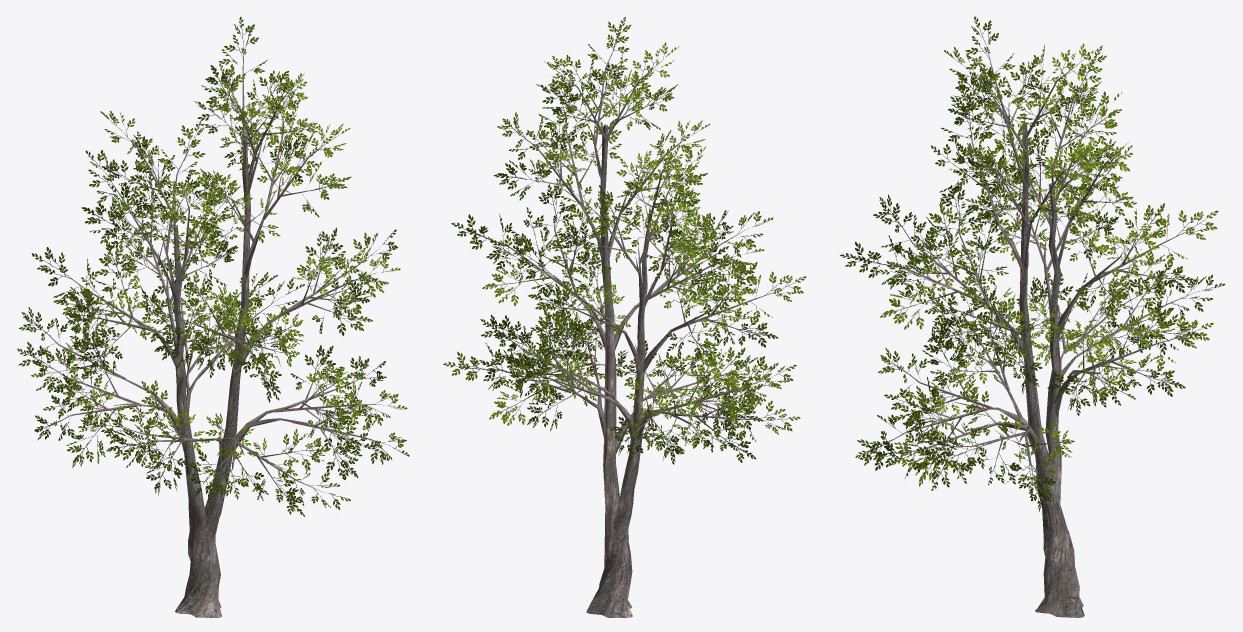
The model's file is tree_elm.glb.
3 renders of one model, left to right at view 1: azimuth 30°, elevation 25°; view 2: azimuth 150°, elevation 25°; view 3: azimuth 270°, elevation 25°, orthographic. The views are drawn at different scales.
Parts seen in each view (by area): view 1: Tree_1Mat, Tree_0Mat; view 2: Tree_1Mat, Tree_0Mat; view 3: Tree_1Mat, Tree_0Mat.
Boxes of the visible parts, left/top/right/bottom form: Tree_1Mat: left=17, top=17, right=409, bottom=516; Tree_0Mat: left=41, top=40, right=388, bottom=617; Tree_1Mat: left=443, top=16, right=806, bottom=464; Tree_0Mat: left=472, top=42, right=780, bottom=617; Tree_1Mat: left=840, top=16, right=1224, bottom=513; Tree_0Mat: left=867, top=43, right=1195, bottom=617.
Size of the model in its own units: 0.6724 by 1 by 0.6035.
Materials: 2 (2 with a texture image).
